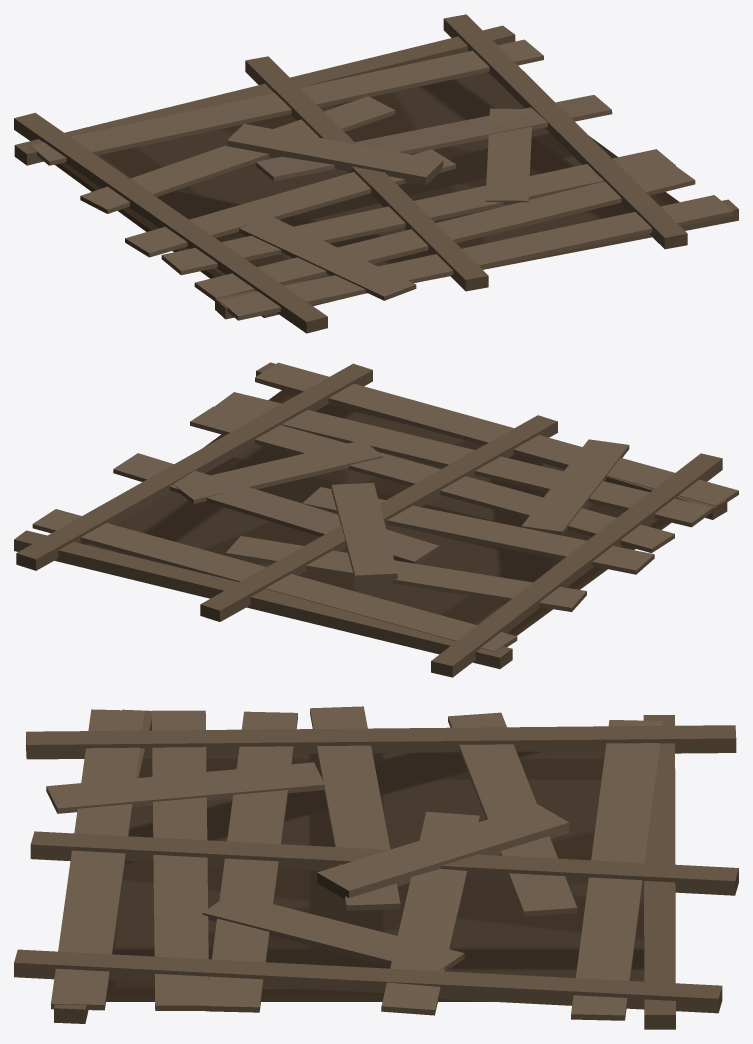
Rendered from SD_Env_Goblin_Platform_Large_02.fbx.
3 renders of one model, top to bottom at view 1: azimuth 30°, elevation 25°; view 2: azimuth 150°, elevation 25°; view 3: azimuth 270°, elevation 25°, orthographic. The views are drawn at different scales.
Visible parts, largest first — view 1: SD_Env_Goblin_Platform_Large_02; view 2: SD_Env_Goblin_Platform_Large_02; view 3: SD_Env_Goblin_Platform_Large_02.
Part boxes in pixels (left/top/right/bottom): SD_Env_Goblin_Platform_Large_02: left=14, top=14, right=738, bottom=333; SD_Env_Goblin_Platform_Large_02: left=14, top=362, right=738, bottom=677; SD_Env_Goblin_Platform_Large_02: left=14, top=706, right=738, bottom=1029.
Bounding box in the file's own units: 11.22 × 0.3775 × 11.13.
